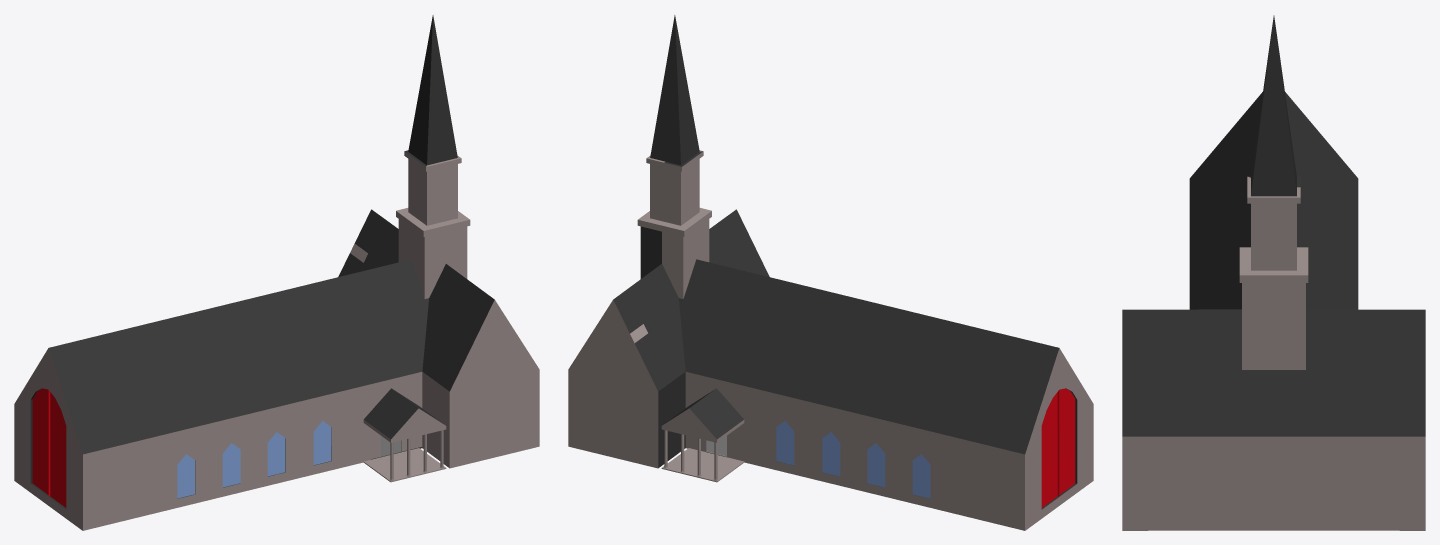
The model's file is Church.fbx.
3 renders of one model, left to right at view 1: azimuth 30°, elevation 25°; view 2: azimuth 150°, elevation 25°; view 3: azimuth 270°, elevation 25°, orthographic. The views are drawn at different scales.
Parts seen in each view (by area): view 1: Cube, Cube.004, Cube.003; view 2: Cube, Cube.004, Cube.003; view 3: Cube.
Boxes of the visible parts, left/top/right/bottom form: Cube: left=14, top=15, right=539, bottom=530; Cube.004: left=363, top=448, right=446, bottom=482; Cube.003: left=389, top=430, right=444, bottom=480; Cube: left=568, top=15, right=1093, bottom=530; Cube.004: left=661, top=448, right=744, bottom=482; Cube.003: left=663, top=430, right=718, bottom=480; Cube: left=1122, top=15, right=1425, bottom=530.
Size of the model in its own units: 4727 by 4189 by 2353.
